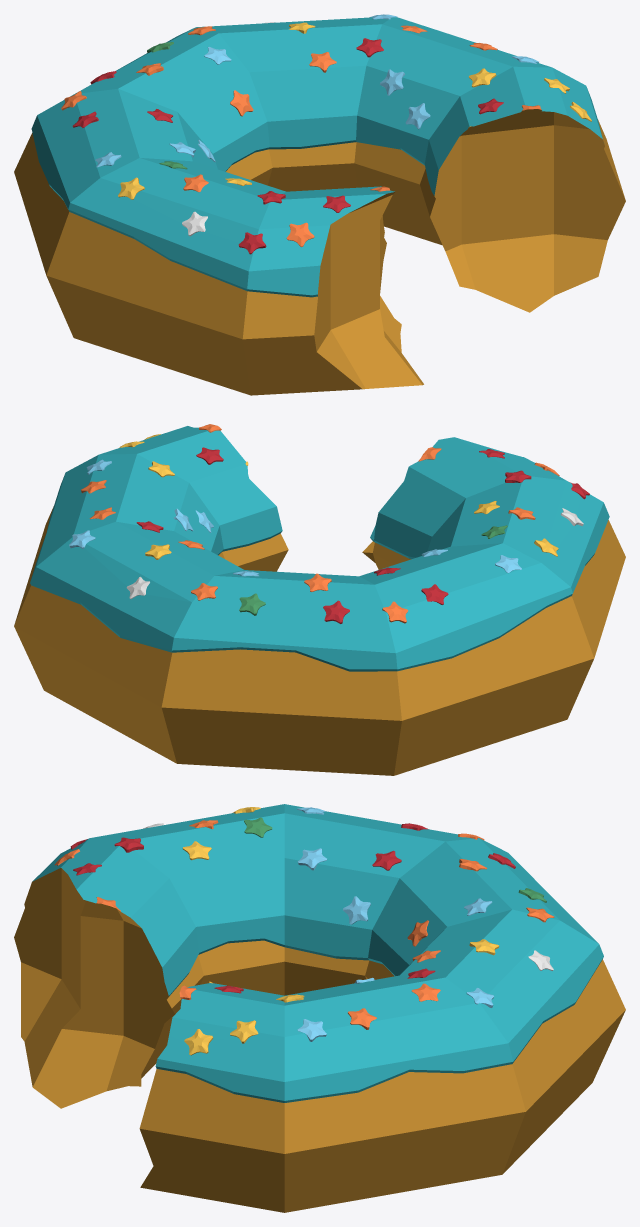
File: DonutState2.fbx
The picture shows the model from 3 angles, top to bottom: view 1: azimuth 30°, elevation 25°; view 2: azimuth 150°, elevation 25°; view 3: azimuth 270°, elevation 25°; orthographic projection. The views are drawn at different scales.
Visible parts, largest first — view 1: DonutState2; view 2: DonutState2; view 3: DonutState2.
Boxes of the visible parts, box(x1,y1,x2,y2) form: DonutState2: box(14, 14, 625, 395); DonutState2: box(14, 424, 625, 775); DonutState2: box(14, 804, 625, 1212).
Size of the model in its own units: 120 by 40.23 by 108.
